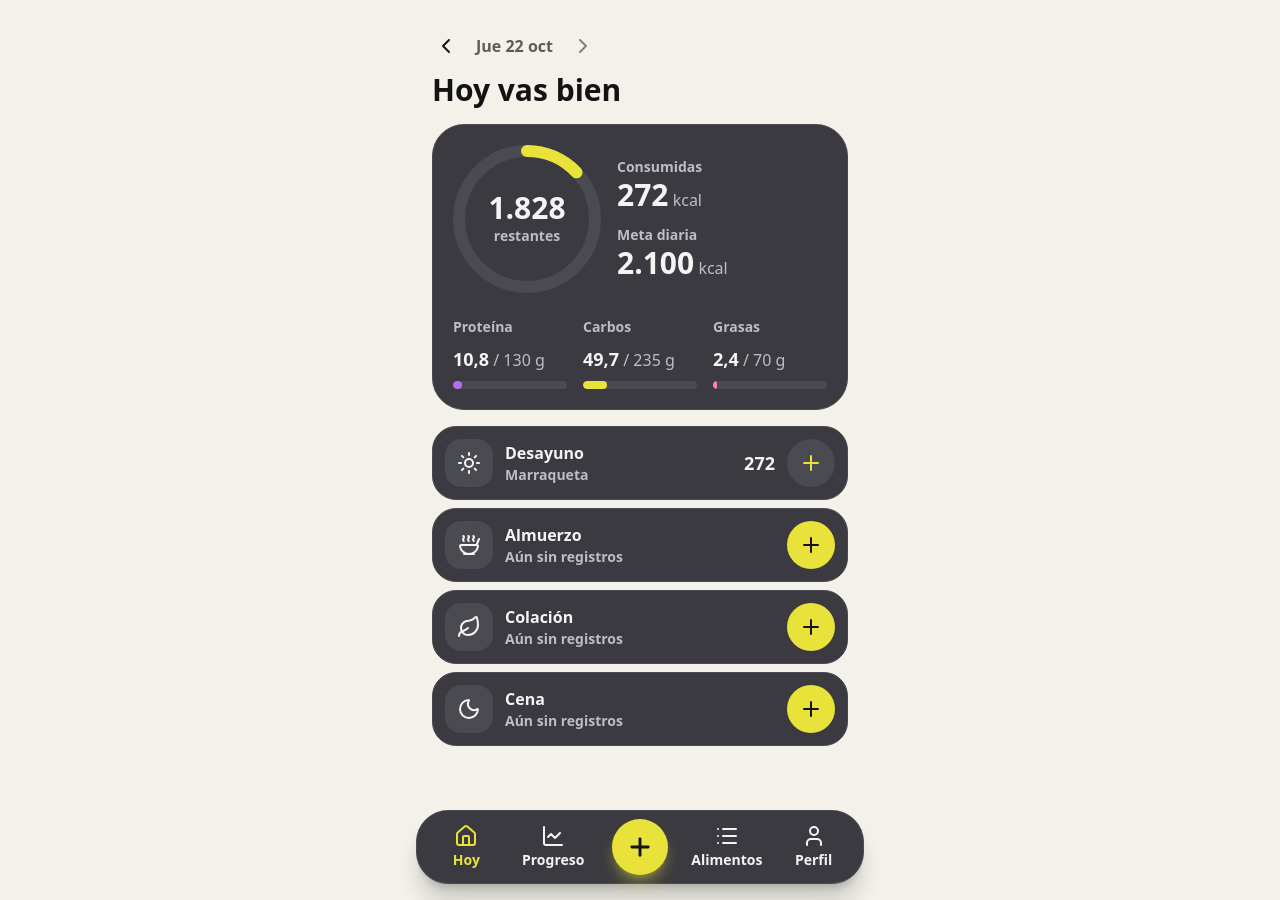
Test: TodayPage › editing a log (HU-06) › saves a new amount and meal from the log’s own snapshot (R-02)
Click the button "Desayuno Marraqueta 272": (469, 463) 445,439 -> 775,487
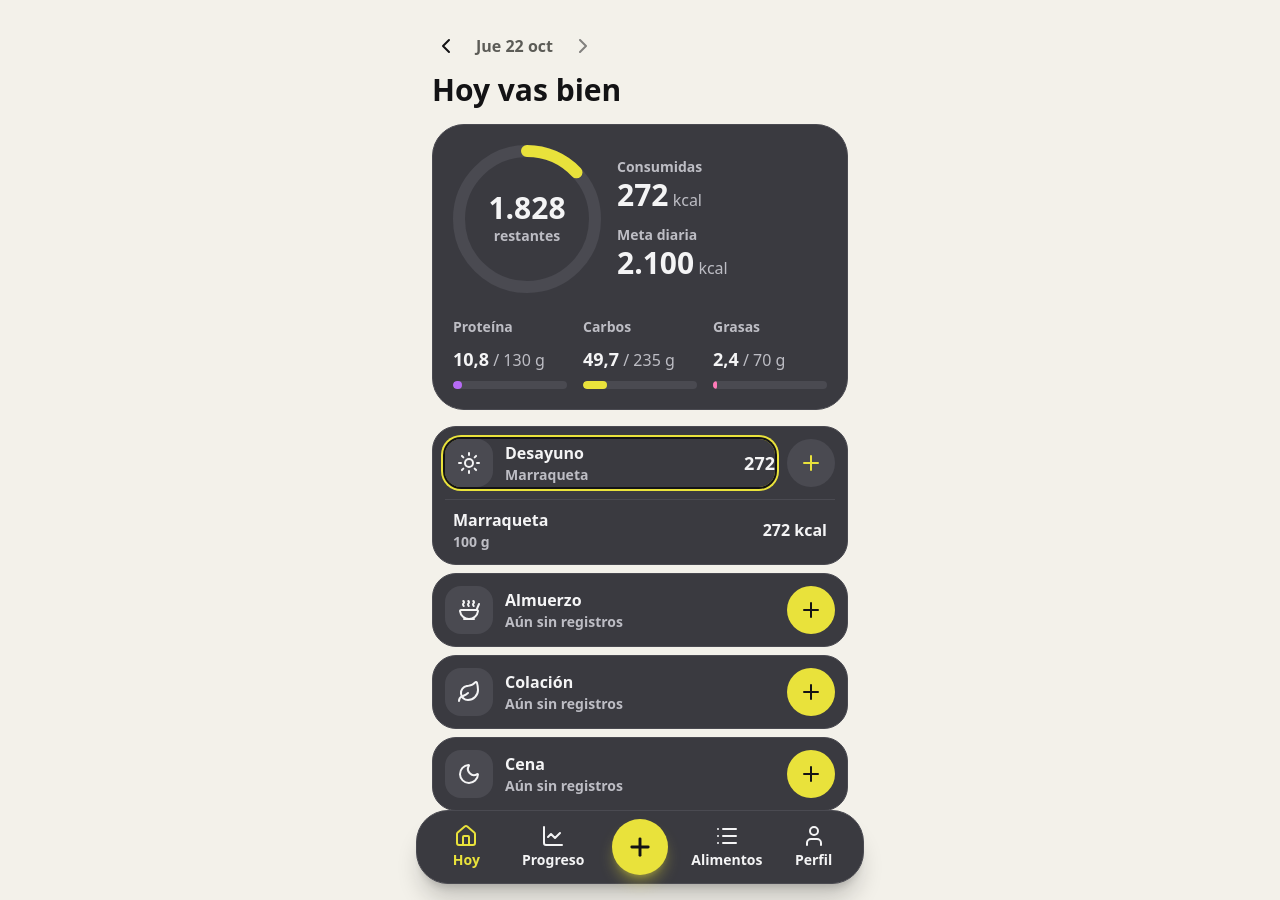
Click the button "Marraqueta 100 g 272 kcal": (501, 520) 445,508 -> 835,552
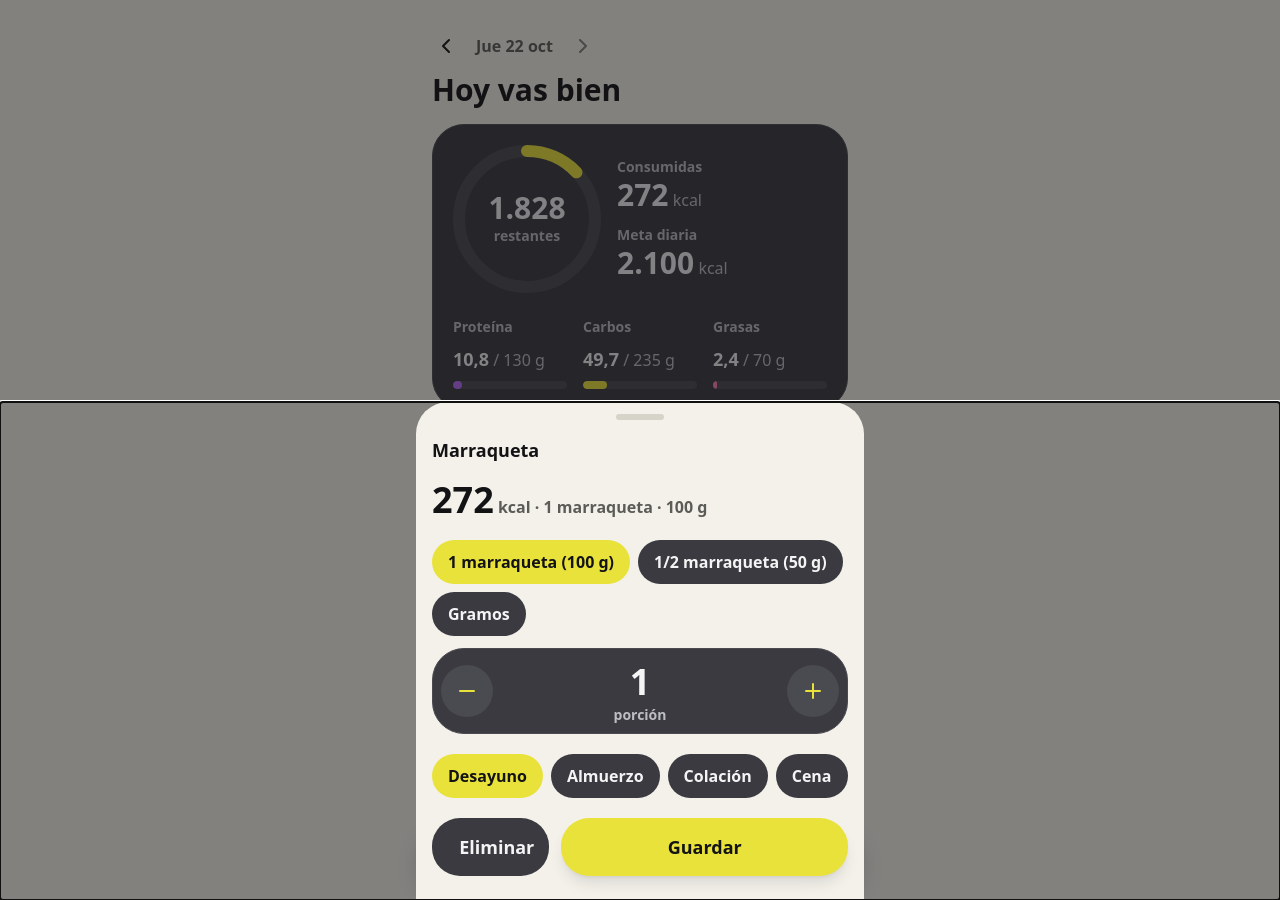
Click the button "1/2 marraqueta (50 g)": (740, 562) 638,540 -> 843,584
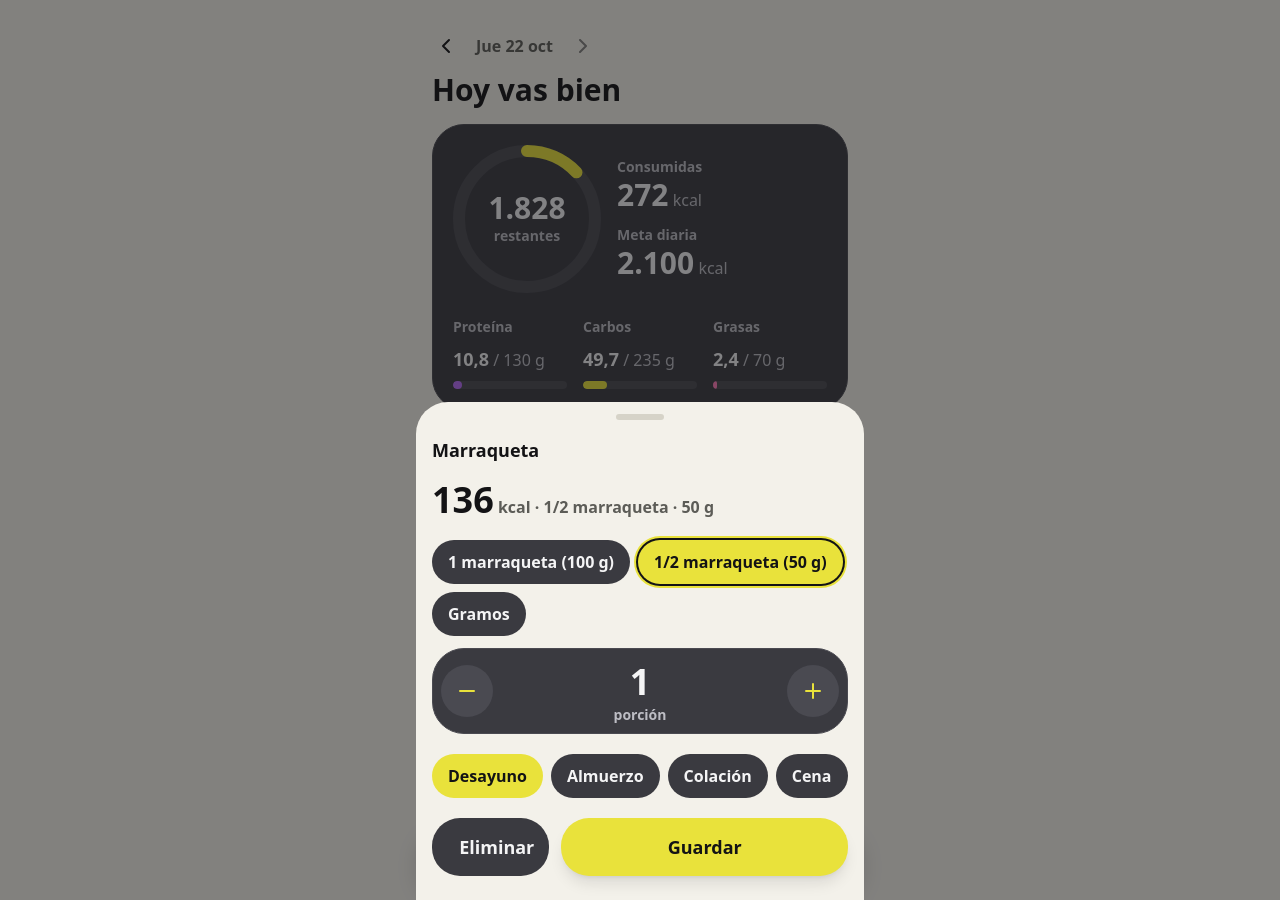
Click the button named "Sumar 0,5": (813, 691) 787,665 -> 839,717
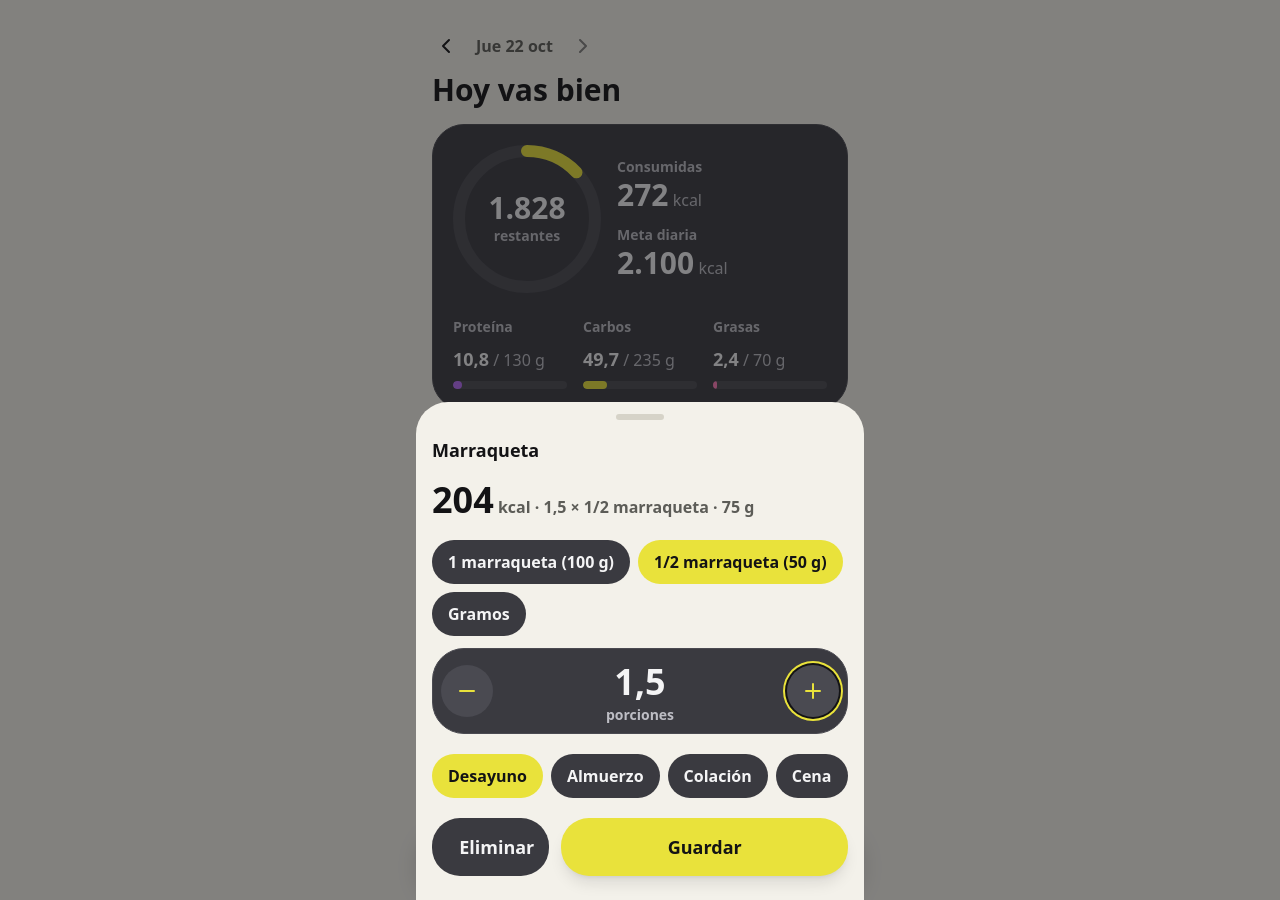
Click the button "Colación": (718, 776) 668,754 -> 768,798
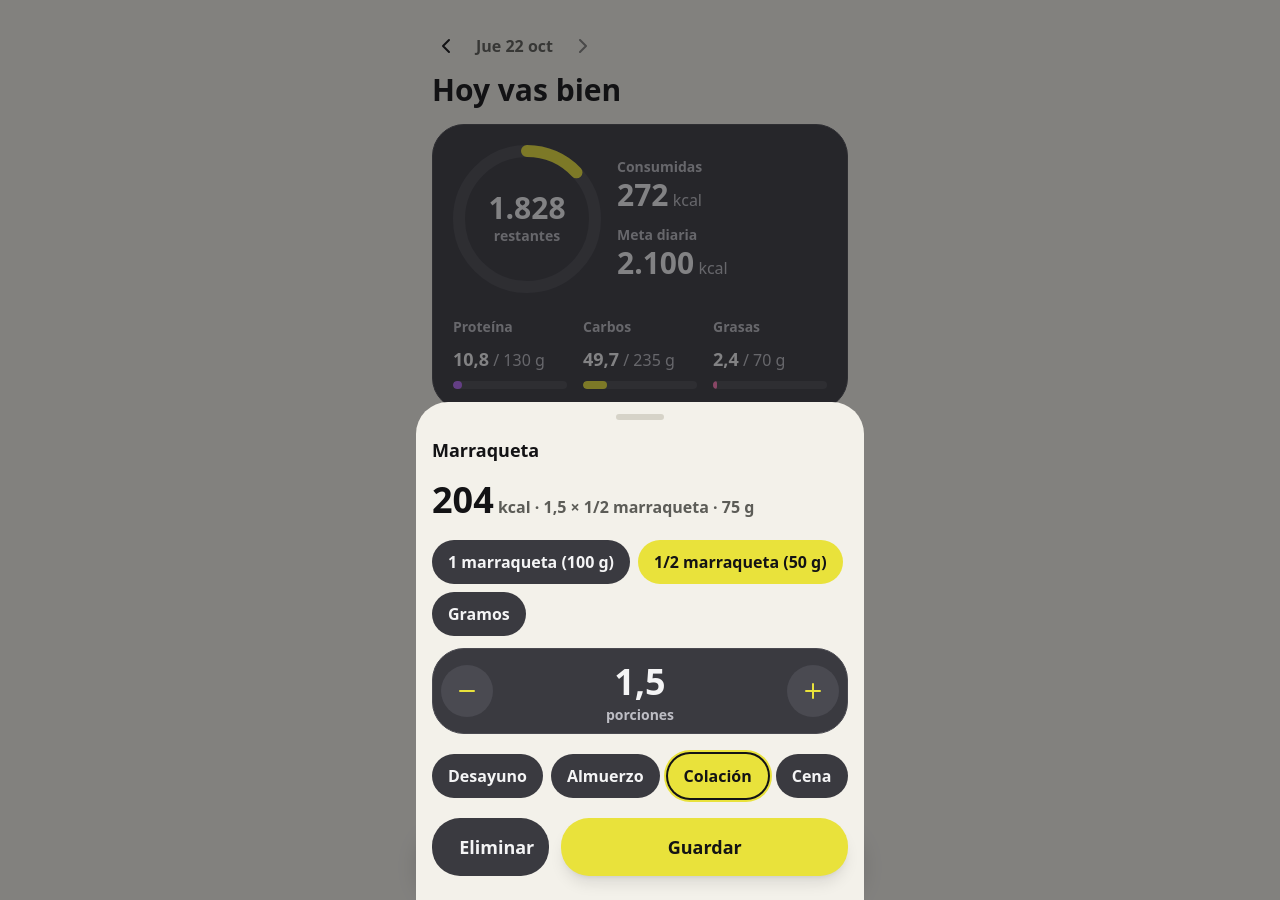
Click the button "Guardar": (705, 847) 561,818 -> 848,876
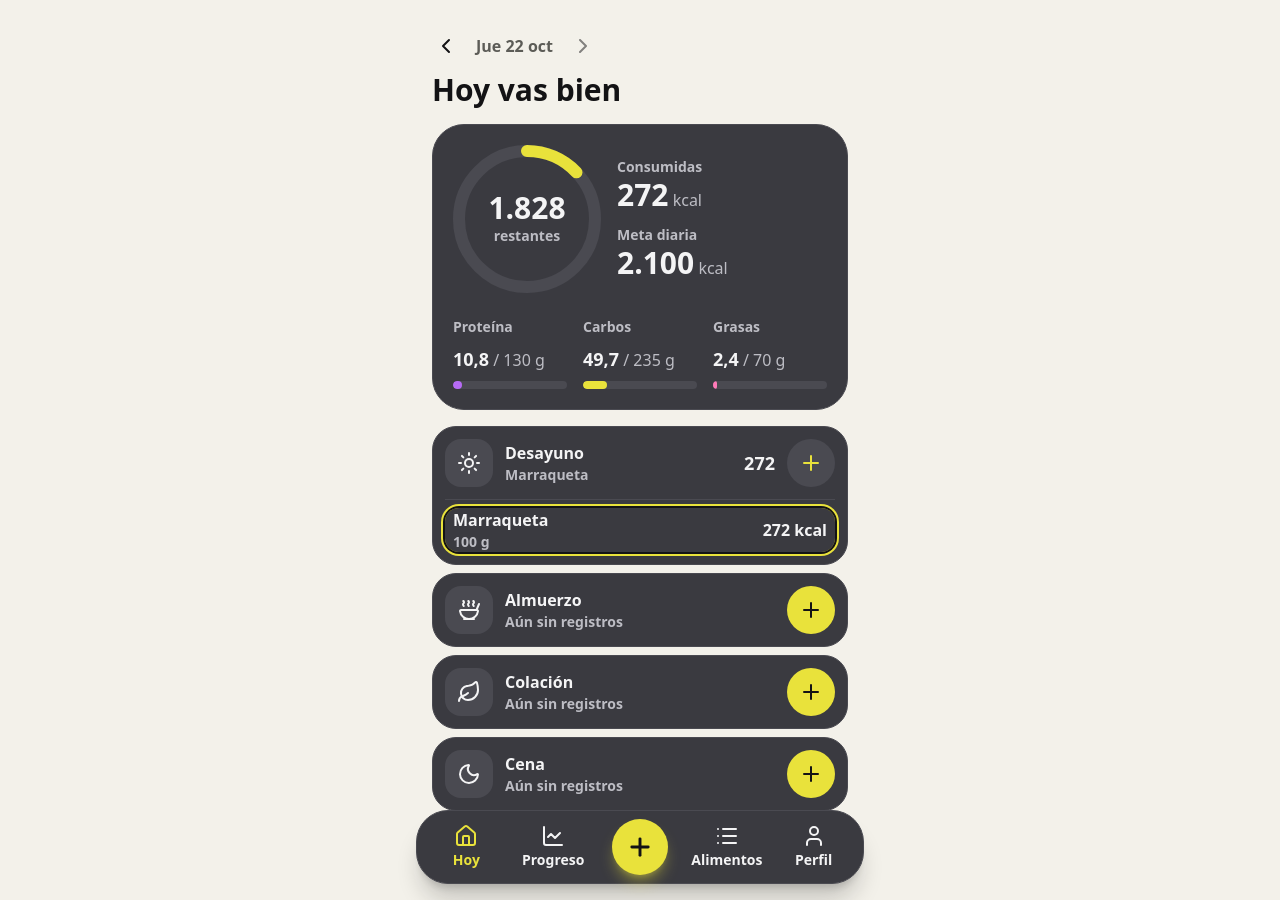
Check: the dialog is gone
